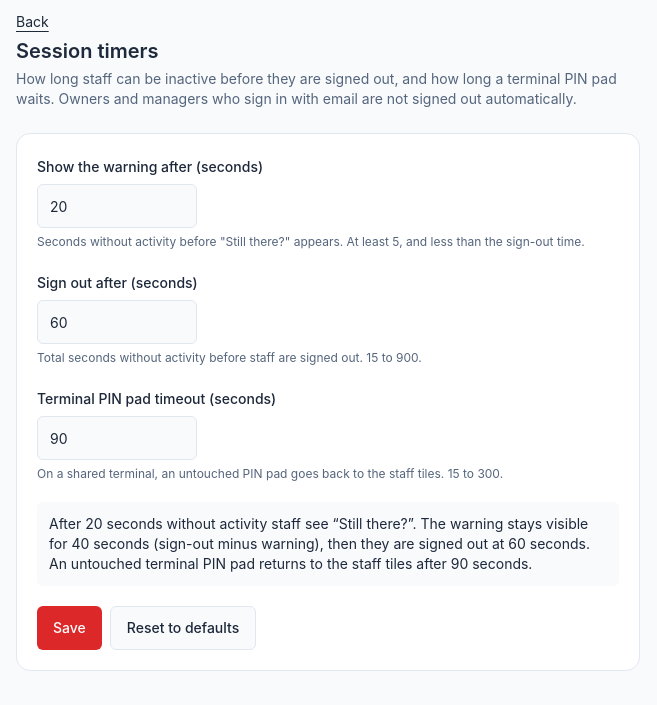
Test: SessionTimersPage › maps tenant_read_only to safe copy
Check: the number field labelled "Show the warning after (seconds)" holds "20", box [37,184,197,228]
Click the button "Save" at [69, 628], box [37,606,102,650]
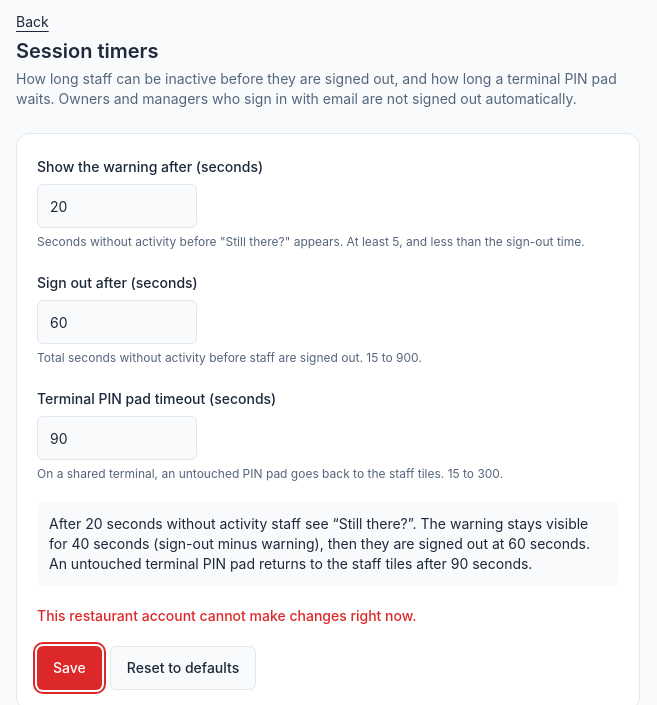
Check: the text "This restaurant account cannot make changes right now." is shown, box [37,607,417,624]
